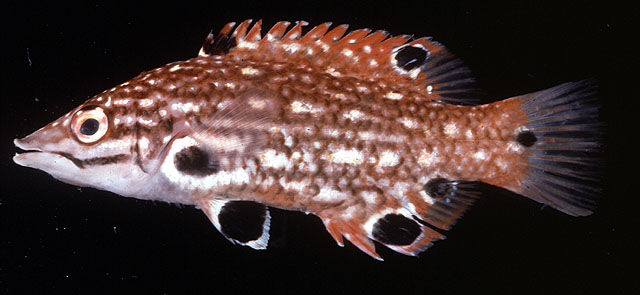fish: (16, 20, 600, 262)
